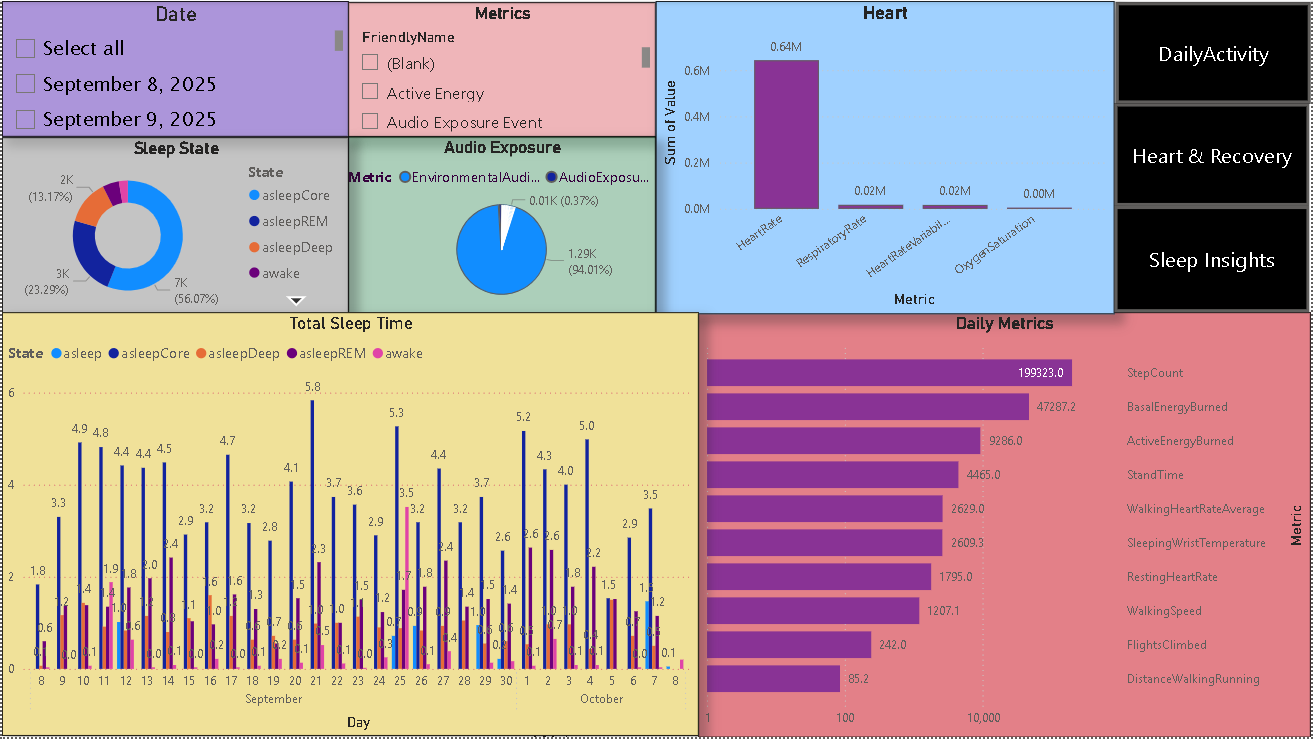

The dashboard page shown, as its layout file describes it:
{"tool":"powerbi","page":{"name":"Overview","canvas":[1280,720],"ordinal":0},"visuals":[{"type":"slicer","title":"Date","fields":{"Values":["DimDate.Date"]},"box":[0,0,339,133],"z":0},{"type":"slicer","title":"Metrics","fields":{"Values":["Metric.FriendlyName"]},"box":[339.2,1.4,300.8,132.6],"z":1000},{"type":"clusteredBarChart","title":"Daily Metrics","fields":{"Category":["DailyMetrics.Metric"],"Y":["Sum(DailyMetrics.Value)"]},"box":[681.1,304.5,599.2,415.8],"z":2000},{"type":"clusteredBarChart","fields":{"Category":["Metric.Unit","Metric.FriendlyName"],"Series":["Metric.Group"],"Rows":["Metric.Metric"]},"box":[492,675,78,45],"z":3000},{"type":"clusteredColumnChart","title":"Heart","fields":{"Category":["Samples.Metric"],"Y":["Sum(Samples.Value)"]},"box":[640,0,449,306.5],"z":4000},{"type":"pieChart","title":"Audio Exposure","fields":{"Category":["Intervals.Metric"],"Y":["CountNonNull(Intervals.Value)"],"Series":["Intervals.Total Minutes"]},"box":[339.2,132.6,300.8,173.9],"z":5000},{"type":"donutChart","title":"Sleep State","fields":{"Y":["Sum(Sleep_Segments.DurationMinutes)"],"Category":["Sleep_Segments.State"]},"box":[0,133,339,174],"z":6000},{"type":"clusteredColumnChart","title":"Total Sleep Time","fields":{"Category":["DimDate.Date.Variation.Date Hierarchy.Month","DimDate.Date.Variation.Date Hierarchy.Day"],"Y":["Sleep.Total Hours (incl awake)"],"Series":["Sleep.State"]},"box":[0,305,681.3,414.8],"z":7000},{"type":"actionButton","title":"DailyActivity","box":[1089.5,1.2,190.8,99],"z":8000},{"type":"actionButton","title":"DailyActivity","box":[1088.3,100.3,190.8,100.3],"z":9000},{"type":"actionButton","title":"DailyActivity","box":[1088.3,200.5,190.8,103.9],"z":10000}]}

Visuals, with their boxes in screenshot pixels (x1, y1, x2, y2), scaled from the page's 1280x720 canvas onto the 1313x740 screenshot:
"Date" slicer: [0,0,348,137]
"Metrics" slicer: [348,1,656,138]
"Daily Metrics" clusteredBarChart: [699,313,1312,739]
clusteredBarChart - Metric.Unit x Metric.FriendlyName: [505,694,585,739]
"Heart" clusteredColumnChart: [656,0,1117,315]
"Audio Exposure" pieChart: [348,136,656,315]
"Sleep State" donutChart: [0,137,348,316]
"Total Sleep Time" clusteredColumnChart: [0,313,699,739]
"DailyActivity" actionButton: [1118,1,1312,103]
"DailyActivity" actionButton: [1116,103,1312,206]
"DailyActivity" actionButton: [1116,206,1312,313]
